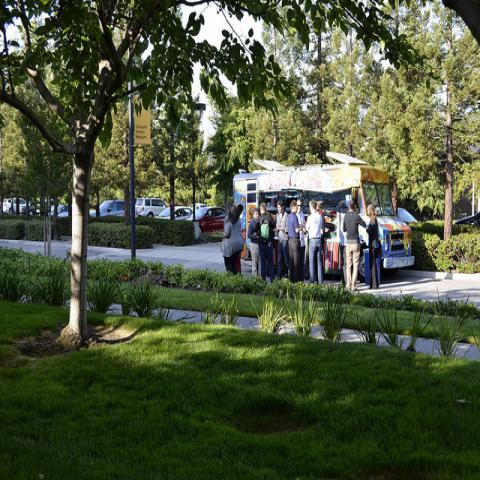car: (221, 194, 469, 292), (195, 206, 225, 232), (135, 198, 167, 218), (3, 197, 35, 215), (156, 207, 193, 220), (100, 200, 124, 216), (398, 209, 417, 223), (464, 212, 480, 228), (45, 198, 61, 214), (190, 204, 207, 213), (57, 204, 68, 217), (36, 202, 41, 216), (90, 210, 96, 217)
truck: (232, 152, 415, 284)
